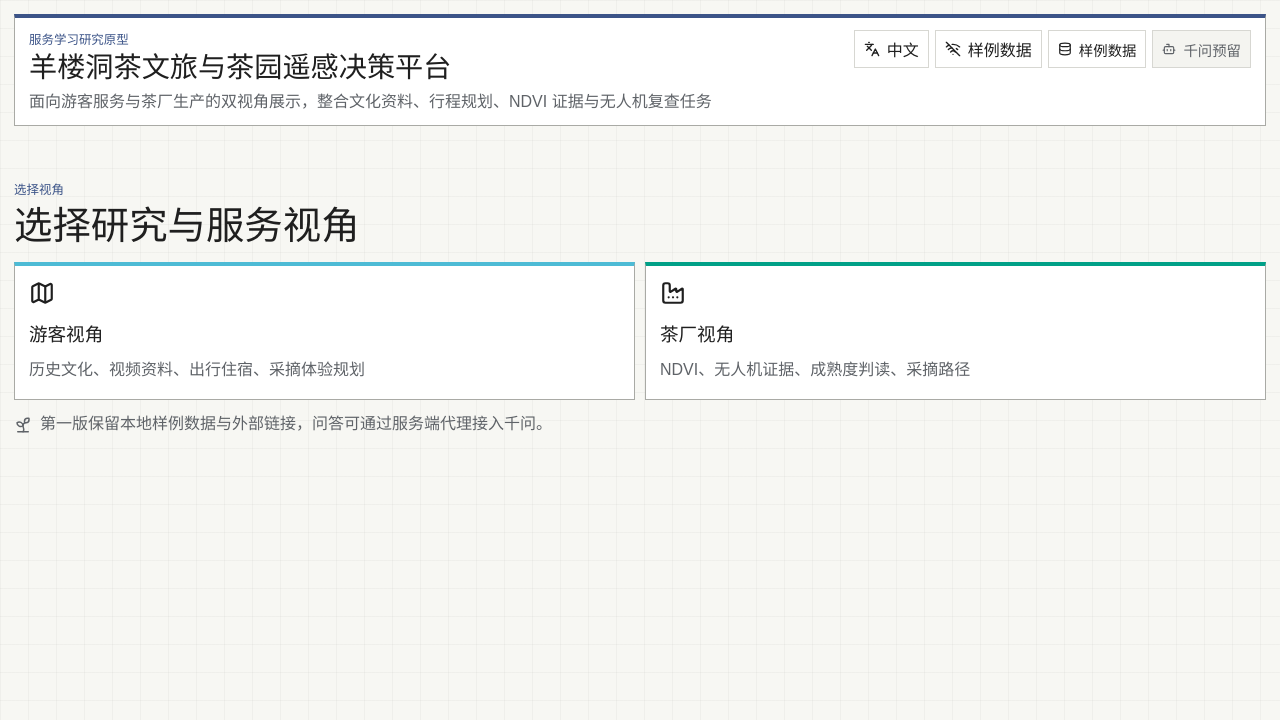
Test: App › lets visitors choose one feature before showing its detail panel
Click the button "游客视角 历史文化、视频资料、出行住宿、采摘体验规划" at [66, 334], box left=14, top=262, right=635, bottom=400
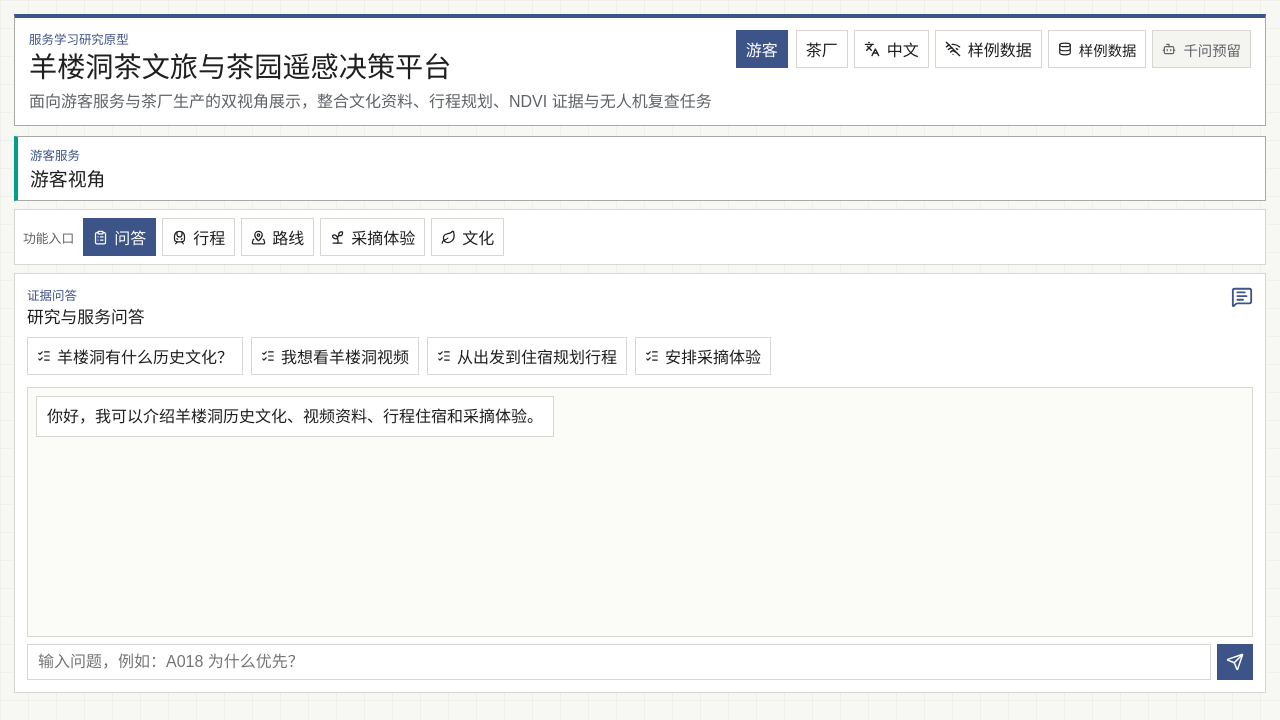
Expected: the navigation bar "功能入口" is shown, left=14, top=209, right=1266, bottom=265
Expected: the heading "研究与服务问答" is shown, left=27, top=308, right=144, bottom=329
Expected: the button "采摘体验规划" is gone
Click the button "采摘体验" at [373, 237], box left=320, top=218, right=425, bottom=256
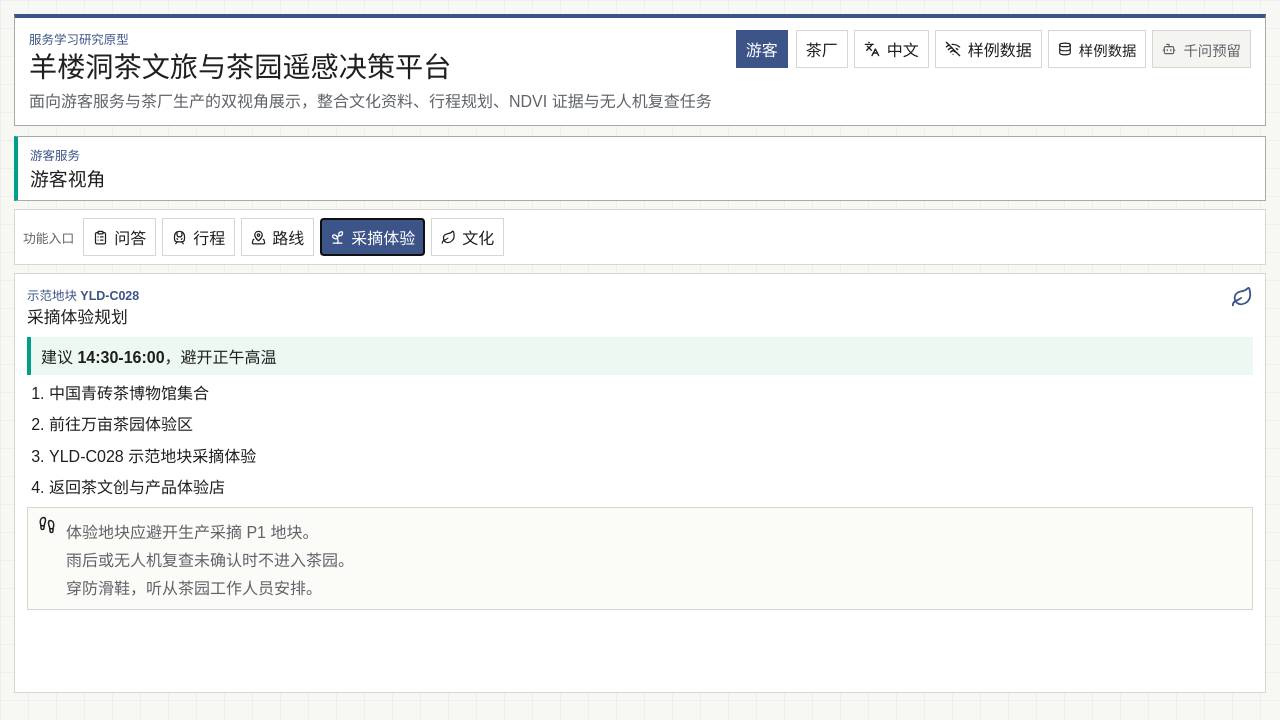
Expected: the heading "采摘体验规划" is shown, left=27, top=308, right=139, bottom=329
Expected: the heading "研究与服务问答" is gone
